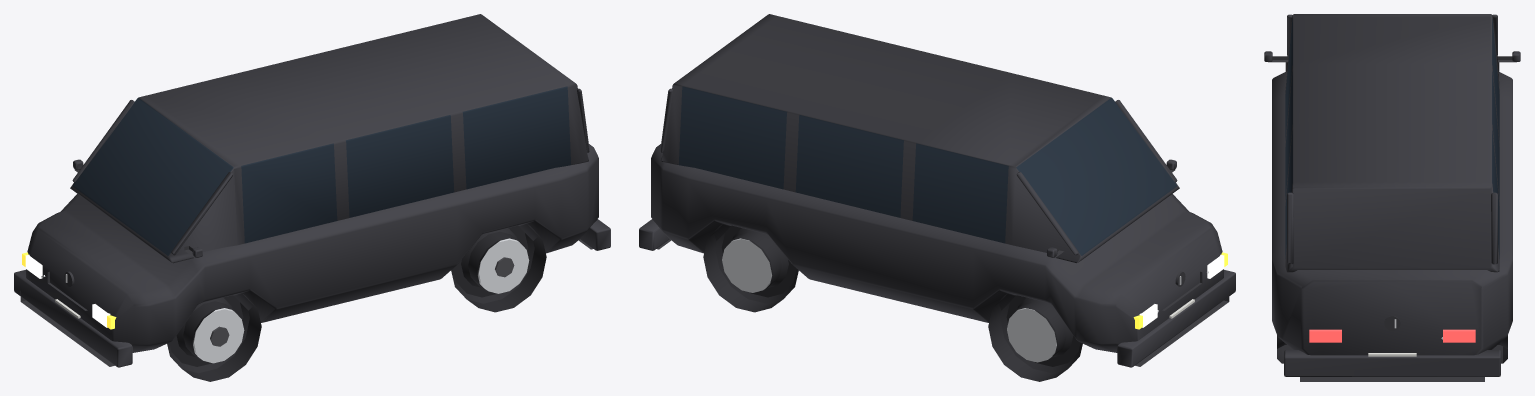
Rendered from mv_vclass.glb.
3 renders of one model, left to right at view 1: azimuth 30°, elevation 25°; view 2: azimuth 150°, elevation 25°; view 3: azimuth 270°, elevation 25°, orthographic. The views are drawn at different scales.
Bounding box in the file's own units: 1.9 × 0.7479 × 0.8235.
